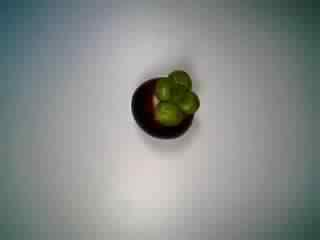mangosteen: (126, 66, 204, 141)
